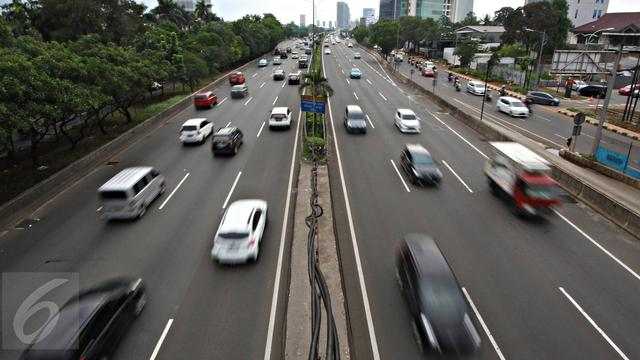car: (393, 234, 487, 360), (31, 272, 147, 360), (485, 134, 558, 231), (96, 165, 166, 223), (211, 198, 268, 267), (401, 143, 443, 192), (211, 127, 246, 161), (181, 116, 213, 146), (498, 96, 528, 122), (344, 104, 366, 136), (395, 109, 420, 134), (268, 107, 294, 131), (527, 90, 559, 107), (195, 90, 218, 111), (468, 81, 485, 98), (231, 86, 249, 100), (229, 71, 245, 86), (288, 73, 300, 88), (350, 67, 362, 81), (273, 69, 285, 82), (299, 58, 309, 71), (422, 66, 433, 77), (272, 56, 283, 66), (259, 59, 267, 67), (354, 51, 361, 60), (324, 48, 331, 55)
motorbike: (485, 89, 493, 103), (456, 81, 462, 93), (448, 72, 453, 83), (415, 60, 420, 70), (454, 76, 458, 86), (408, 57, 411, 65)
